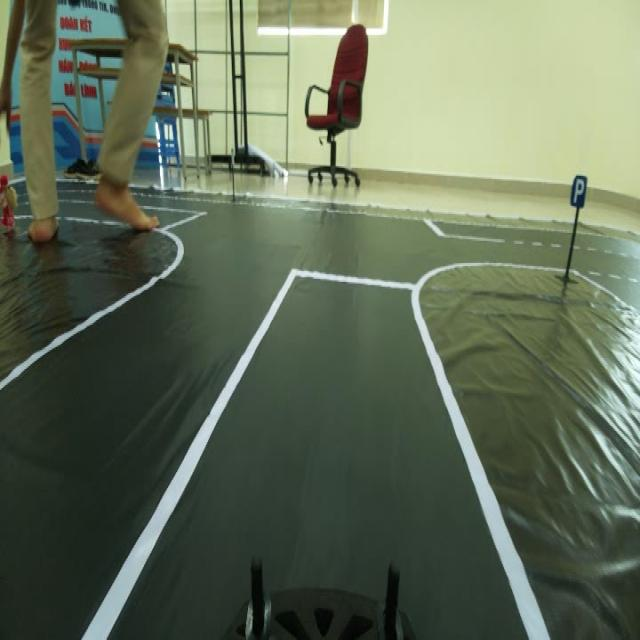parking: (571, 154, 591, 217)
